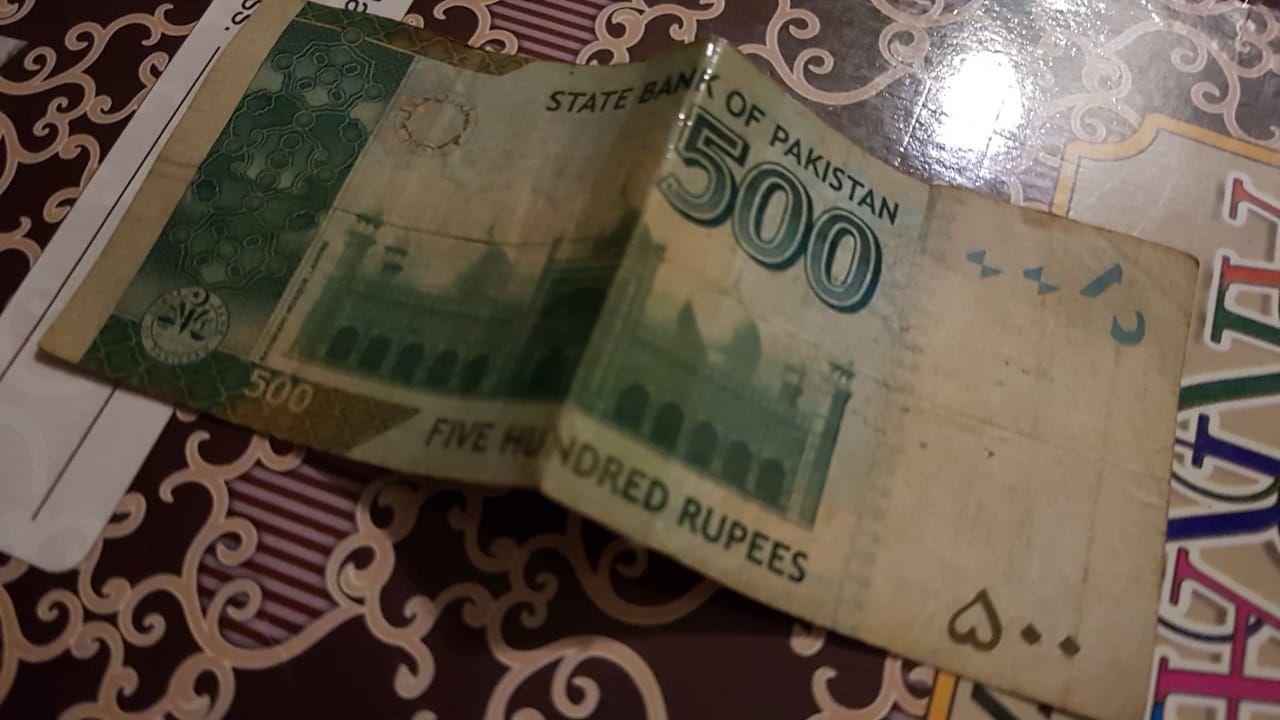500 rupee: (11, 16, 1206, 715)
